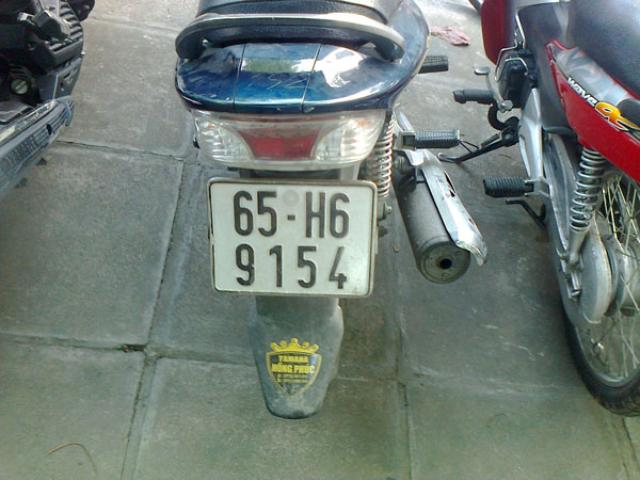plate: (207, 178, 379, 298)
